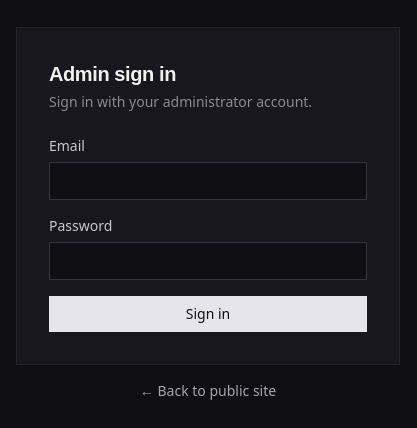
AdminLogin › rejects invalid email format before submitting
Type "not-an-email" into the field labelled "Email" at (208, 181), box [49,162,367,200]
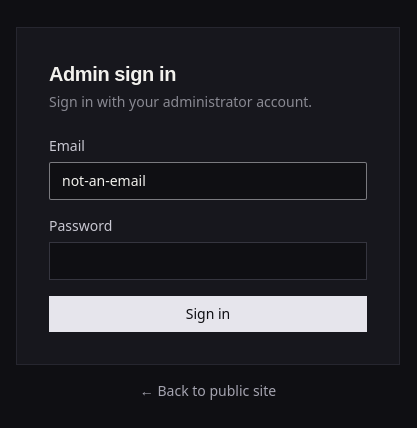
Type "secret123" into the password field labelled "Password" at (208, 261), box [49,242,367,280]
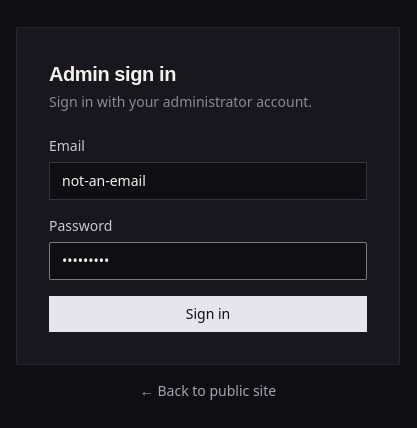
Click the button "Sign in" at (208, 314), box [49,296,367,332]
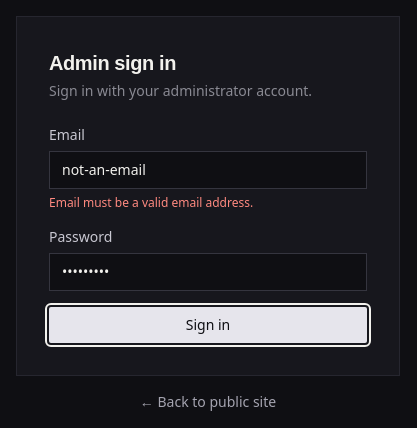
Result: the text "Email must be a valid email address." is shown at [49,194,253,211]
